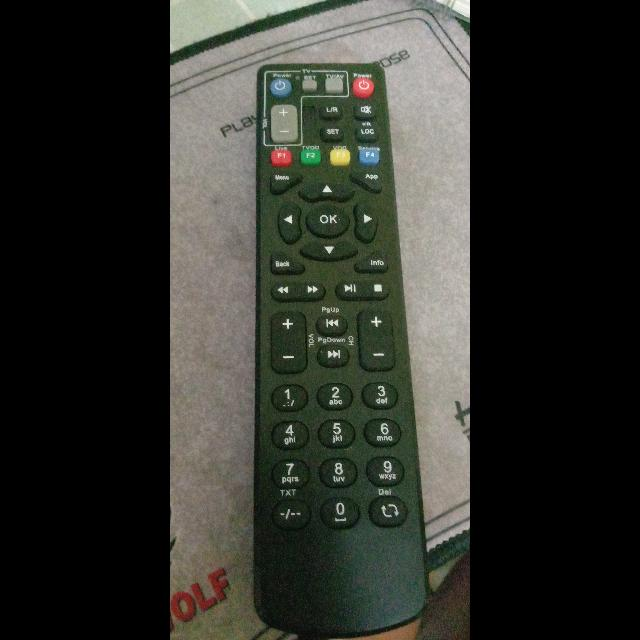TV-Remote-Control: (238, 51, 432, 640)
